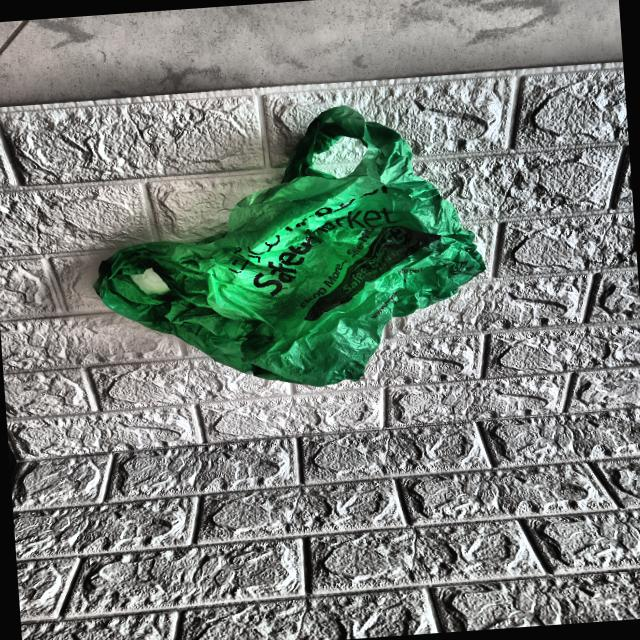plastic bag: (85, 98, 483, 400)
